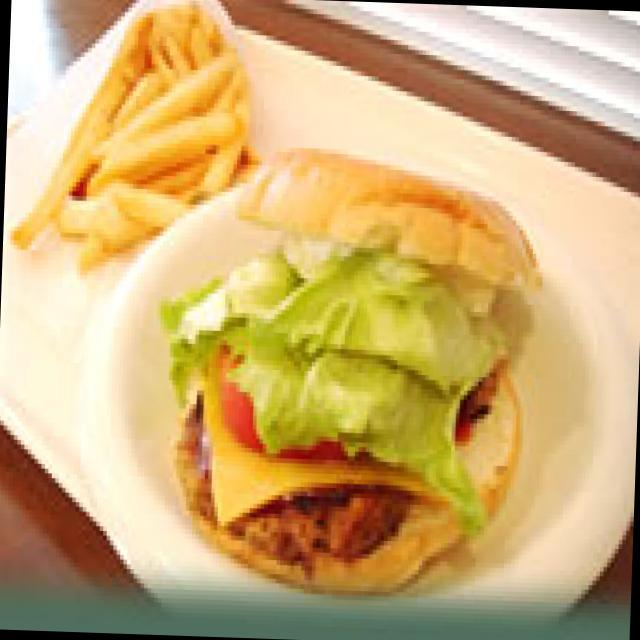Hamburger: (176, 148, 548, 611)
